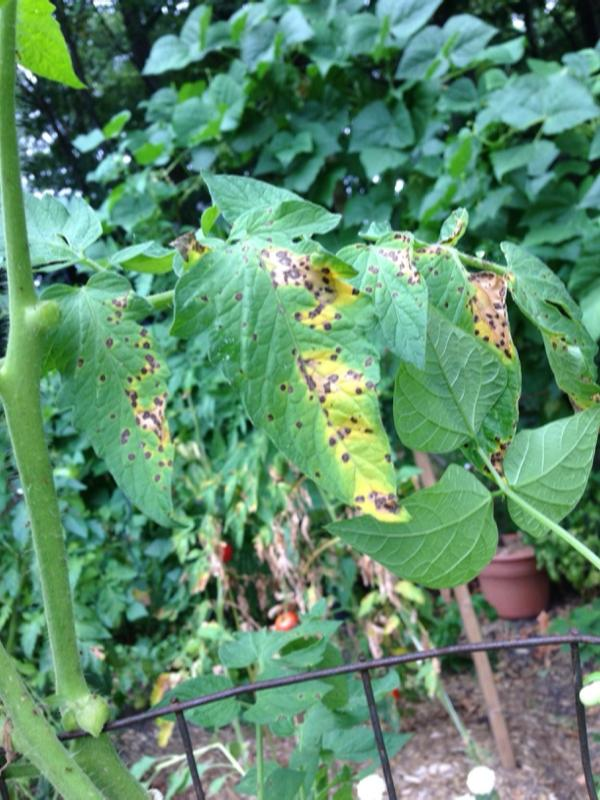Tomato Septoria leaf spot: (206, 243, 410, 523), (60, 270, 186, 520), (364, 237, 423, 381)
Tomato leaf: (502, 402, 599, 540)
